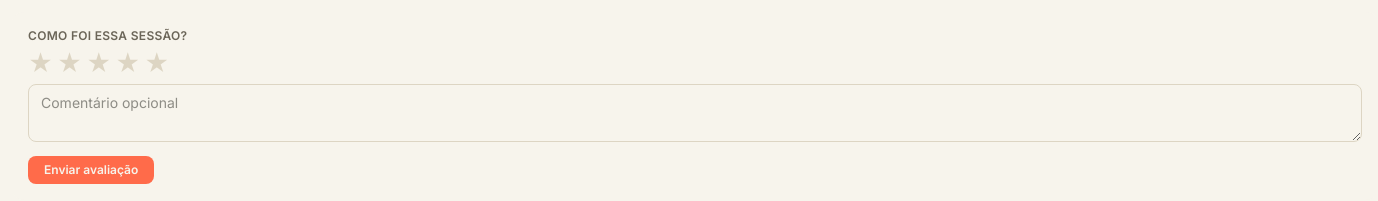
Test: ReviewForm › submits the chosen rating and comment
Click the radio button named "4 estrelas" at (128, 64), box [115,52,140,76]
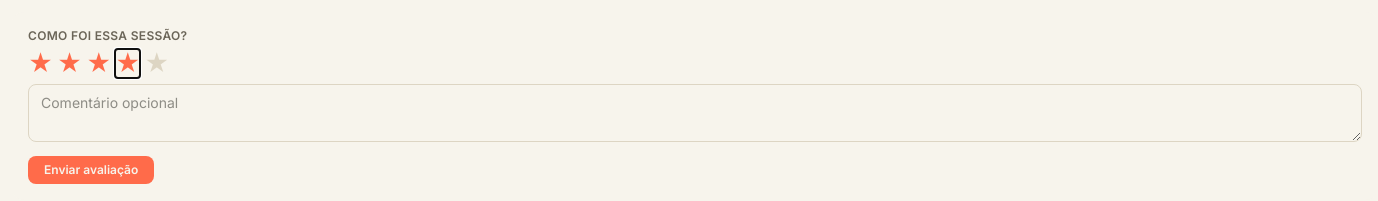
Type "Muito bom" into the text box with placeholder "Comentário opcional" at (695, 113), box [28,84,1362,142]
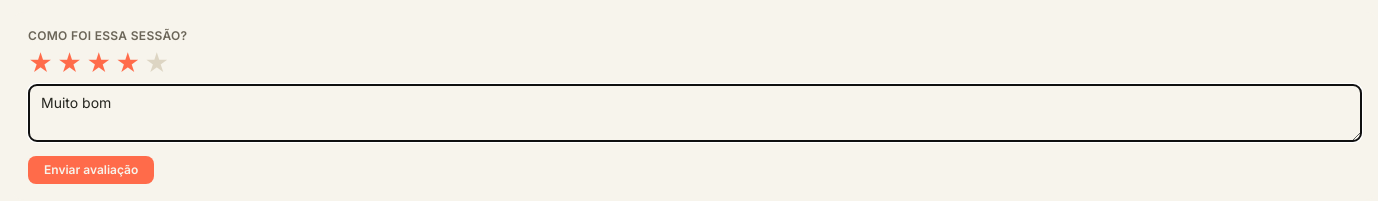
Click the button "Enviar avaliação" at (91, 170), box [28,156,154,184]
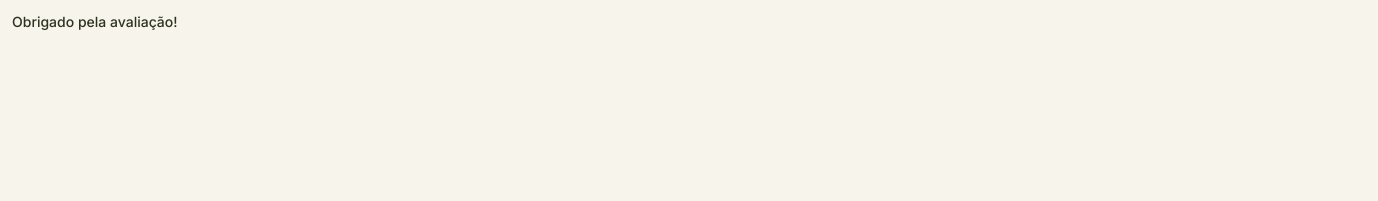
Expected: the text "Obrigado pela avaliação!" is shown, [12,13,178,30]
